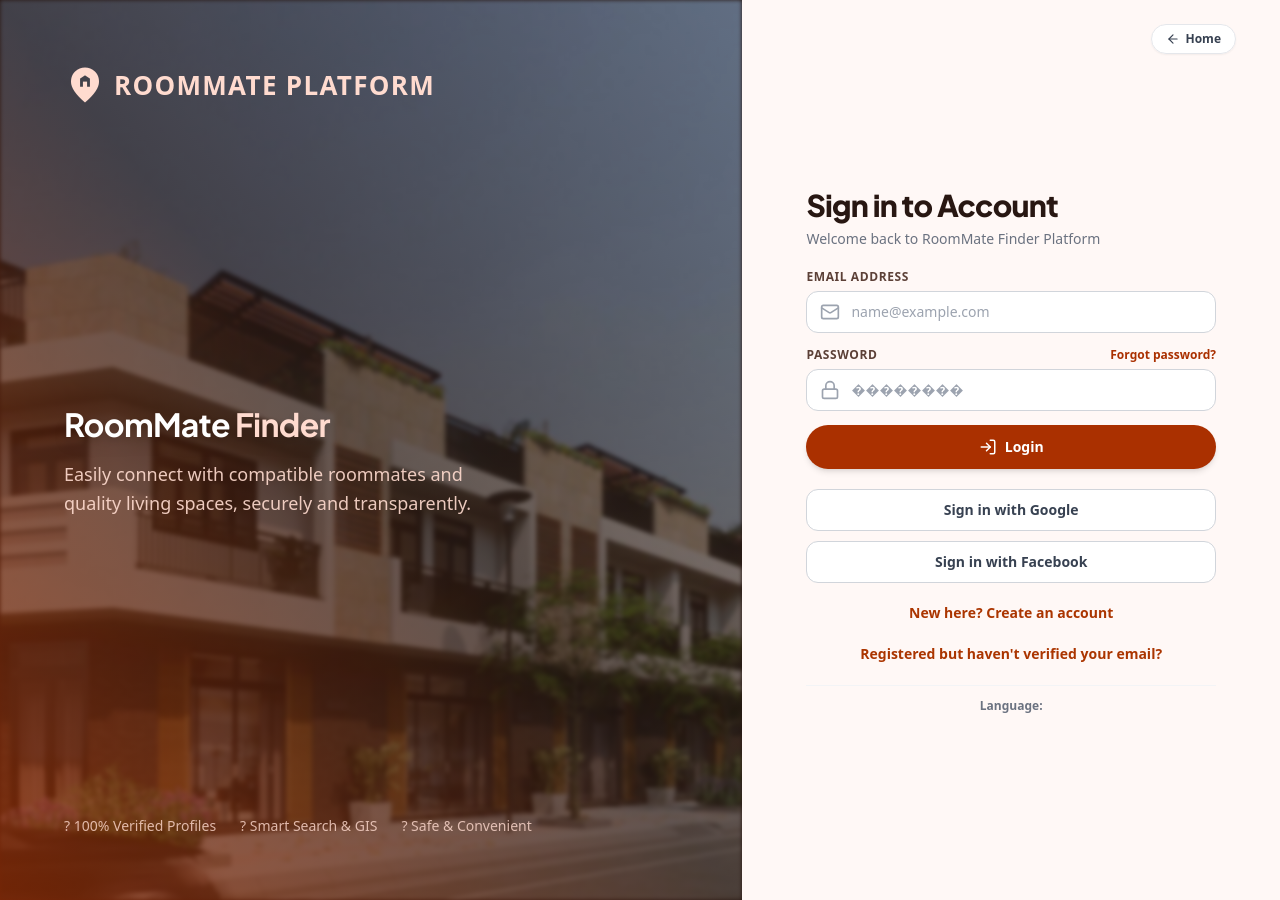
Test: Auth form › switches between login and registration fields
The width and height of the screenshot is (1280, 900).
Expected: the field with placeholder "Your username" is not shown
Click the button "New here? Create an account" at point(1011, 612), box [806, 602, 1216, 622]
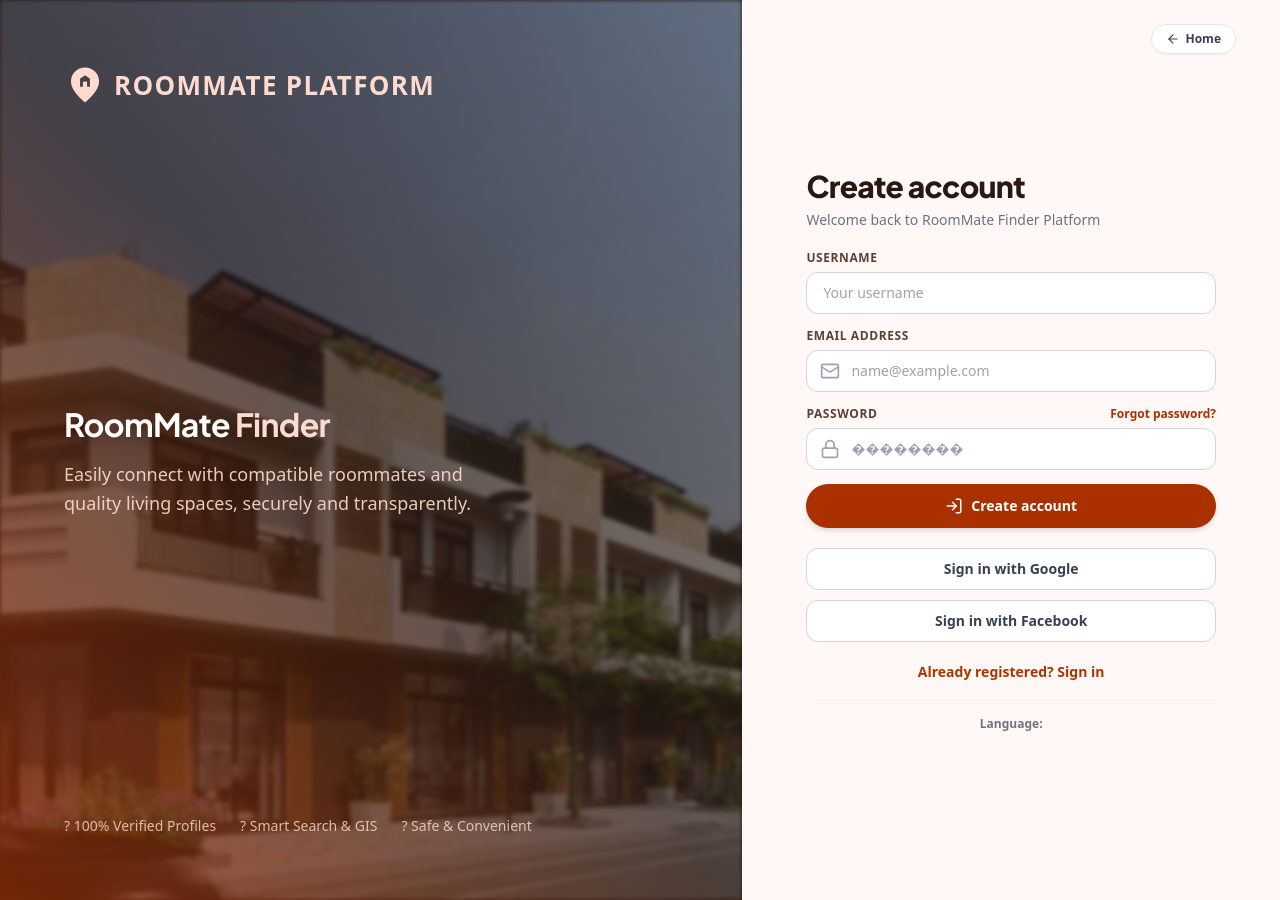
Expected: the field with placeholder "name@example.com" is shown, [806, 350, 1216, 392]
Result: the button "Create account" is shown at [806, 484, 1216, 528]
Click the button "Already registered? Sign in" at point(1011, 672), box [806, 662, 1216, 682]
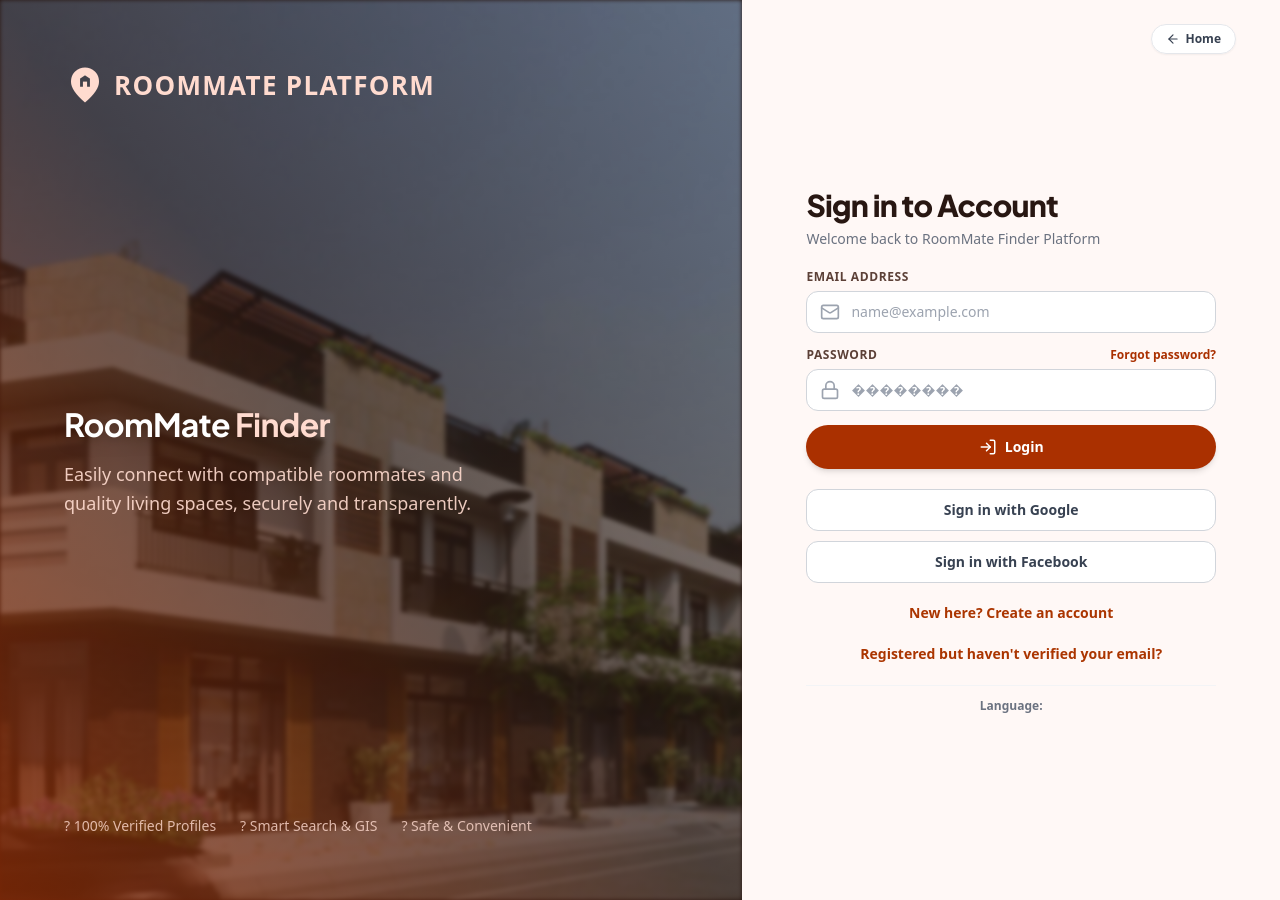
Expected: the field with placeholder "Your username" is not shown
Result: the button "Login" is shown at [806, 424, 1216, 468]
